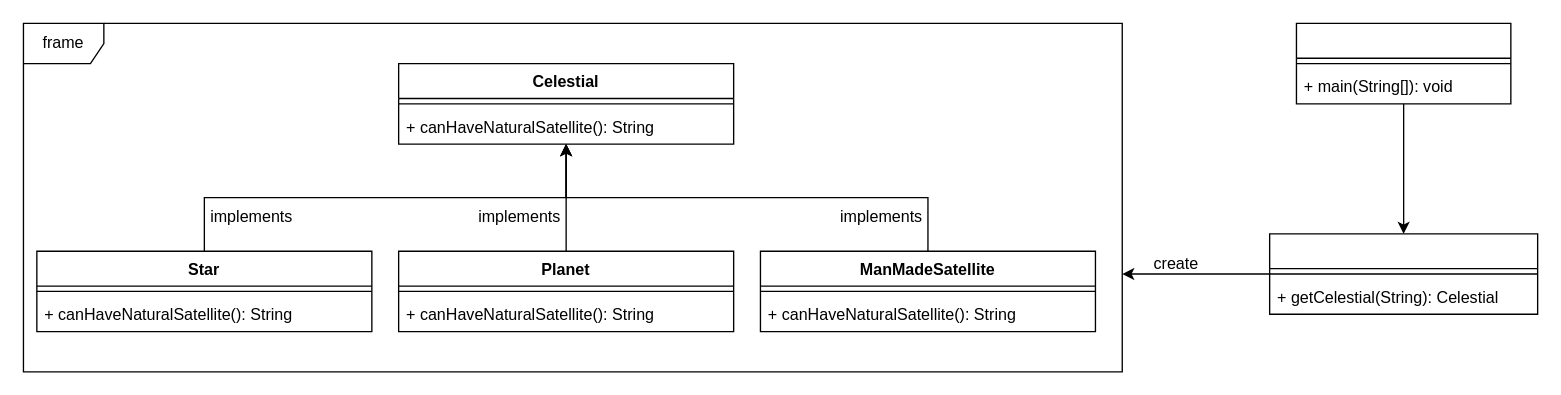
This 1561x395 diagram has some shape labels left out. Here are the shapes that lost their labels. From the top down, the box of each, then its label:
(1295, 22, 1511, 104): FactoryMain
(1268, 232, 1538, 314): CelestialFactory
